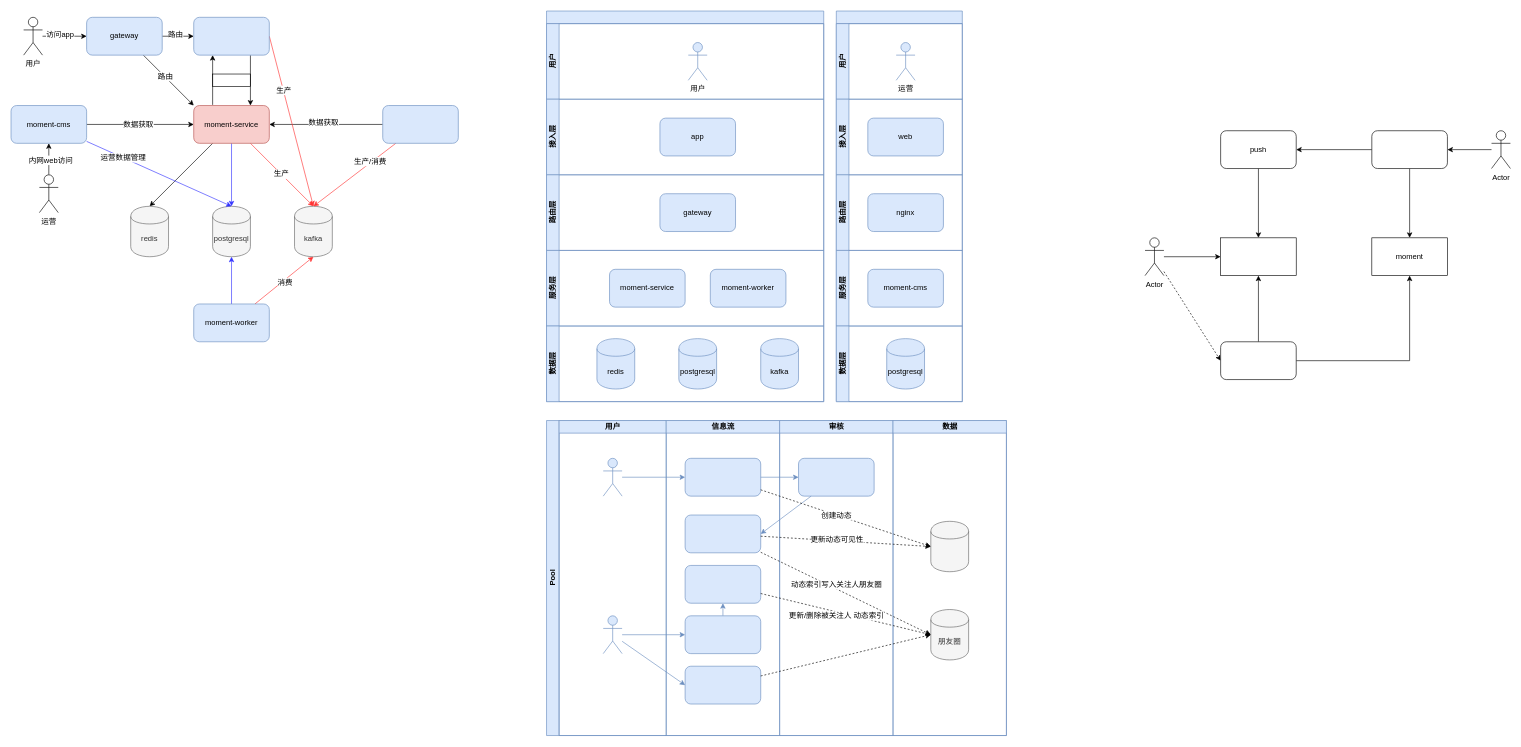
Image size: 1521x747. Some labels were removed from this diagram. Each missing label, with the centre of its shape:
feed: point (1258, 256)
moderetion: point (420, 124)
publish: point (1409, 149)
pull: point (1258, 360)
关注/取消 屏蔽/取消: point (722, 634)
关注人: point (612, 634)
其他依赖微服务: point (231, 36)
动态: point (949, 546)
审核通过: point (836, 477)
接口调用: point (231, 80)
提交动态: point (722, 477)
朋友圈展示: point (722, 685)
朋友圈拉取/删除: point (722, 584)
朋友圈推送: point (722, 533)
被关注人: point (612, 477)
